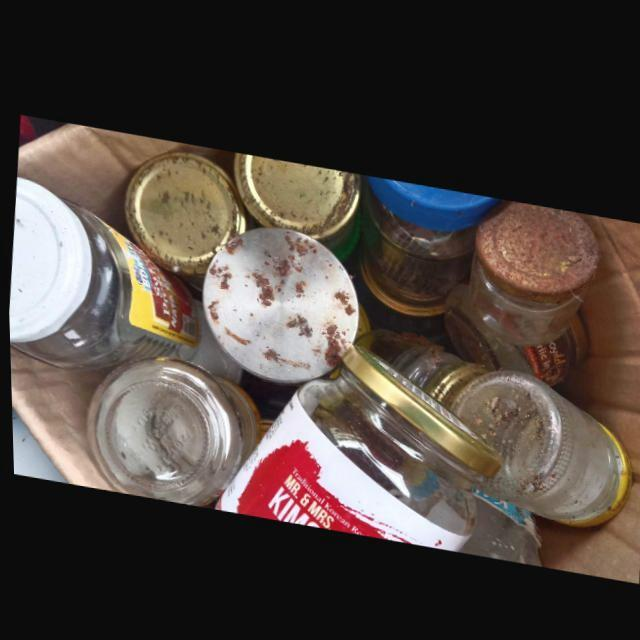aluminum: (198, 221, 360, 378), (122, 149, 241, 265), (233, 147, 360, 234)
glass_bottle: (215, 337, 499, 543), (8, 196, 195, 369), (451, 360, 628, 516), (83, 354, 258, 499), (465, 193, 600, 336), (360, 167, 500, 302), (443, 270, 585, 375), (354, 321, 488, 398)
